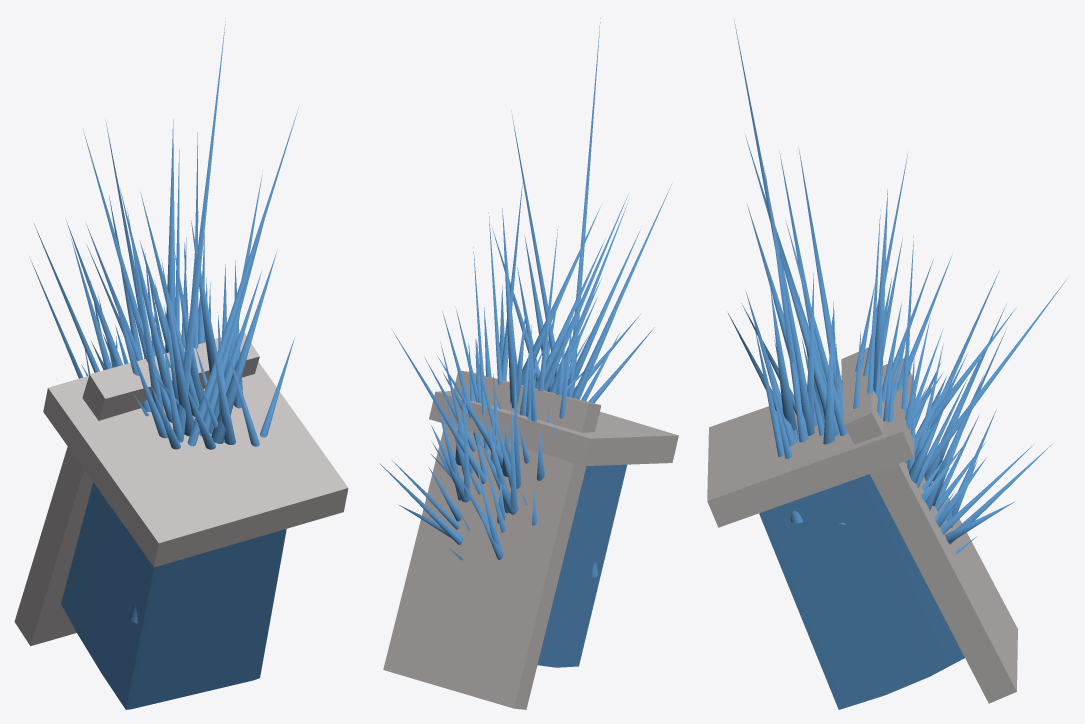
The model's file is JaggedsideStructure.fbx.
The picture shows the model from 3 angles, left to right: view 1: azimuth 30°, elevation 25°; view 2: azimuth 150°, elevation 25°; view 3: azimuth 270°, elevation 25°; orthographic projection. The views are drawn at different scales.
Parts seen in each view (by area): view 1: Snowtop, Icemain, Snowside, SharpneedleTop101, SharpneedleTop86, SharpneedleTop75, SharpneedleTop89, SharpneedleTop88, SharpneedleTop28, SharpneedleTop93, SharpneedleTop4, SharpneedleTop77 (+11 smaller); view 2: Snowside, Icemain, Snowtop, SharpneedleTop101, SharpneedleTop28, SharpneedleTop88, SharpneedleTop86, SharpneedleTop92, SharpneedleTop90, SharpneedleTop89, SharpneedleTop93, SharpneedleTop45 (+8 smaller); view 3: Icemain, Snowside, Snowtop, SharpneedleTop90, SharpneedleTop28, SharpneedleTop93, SharpneedleTop101, SharpneedleTop75, SharpneedleTop45, SharpneedleTop78, SharpneedleTop86, SharpneedleTop76 (+9 smaller).
Boxes of the visible parts, x1,y1,x2,y2 form: Snowtop: (43, 337, 348, 567); Icemain: (61, 482, 286, 709); Snowside: (14, 332, 259, 646); SharpneedleTop101: (178, 21, 225, 442); SharpneedleTop86: (129, 107, 298, 623); SharpneedleTop75: (211, 252, 276, 443); SharpneedleTop89: (161, 260, 193, 436); SharpneedleTop88: (127, 208, 164, 418); SharpneedleTop28: (165, 119, 175, 352); SharpneedleTop93: (119, 187, 169, 399); SharpneedleTop4: (83, 129, 147, 361); SharpneedleTop77: (199, 222, 263, 436); Snowside: (383, 370, 601, 709); Icemain: (537, 464, 626, 667); Snowtop: (429, 391, 678, 466); SharpneedleTop101: (568, 18, 600, 397); SharpneedleTop28: (502, 208, 519, 408); SharpneedleTop88: (571, 184, 671, 398); SharpneedleTop86: (511, 111, 598, 578); SharpneedleTop92: (543, 194, 628, 391); SharpneedleTop90: (521, 204, 601, 385); SharpneedleTop89: (566, 229, 640, 396); SharpneedleTop93: (549, 203, 627, 393); SharpneedleTop45: (393, 332, 486, 483); Icemain: (759, 474, 964, 709); Snowside: (841, 347, 1017, 703); Snowtop: (707, 358, 914, 527); SharpneedleTop90: (764, 198, 839, 436); SharpneedleTop28: (873, 189, 887, 393); SharpneedleTop93: (798, 147, 843, 415); SharpneedleTop101: (734, 19, 806, 382); SharpneedleTop75: (770, 288, 798, 434); SharpneedleTop45: (924, 277, 1068, 475); SharpneedleTop78: (785, 220, 847, 435); SharpneedleTop86: (764, 166, 799, 412); SharpneedleTop76: (823, 317, 834, 444).
Bounding box in the file's own units: 15.67 × 54.16 × 27.07.
